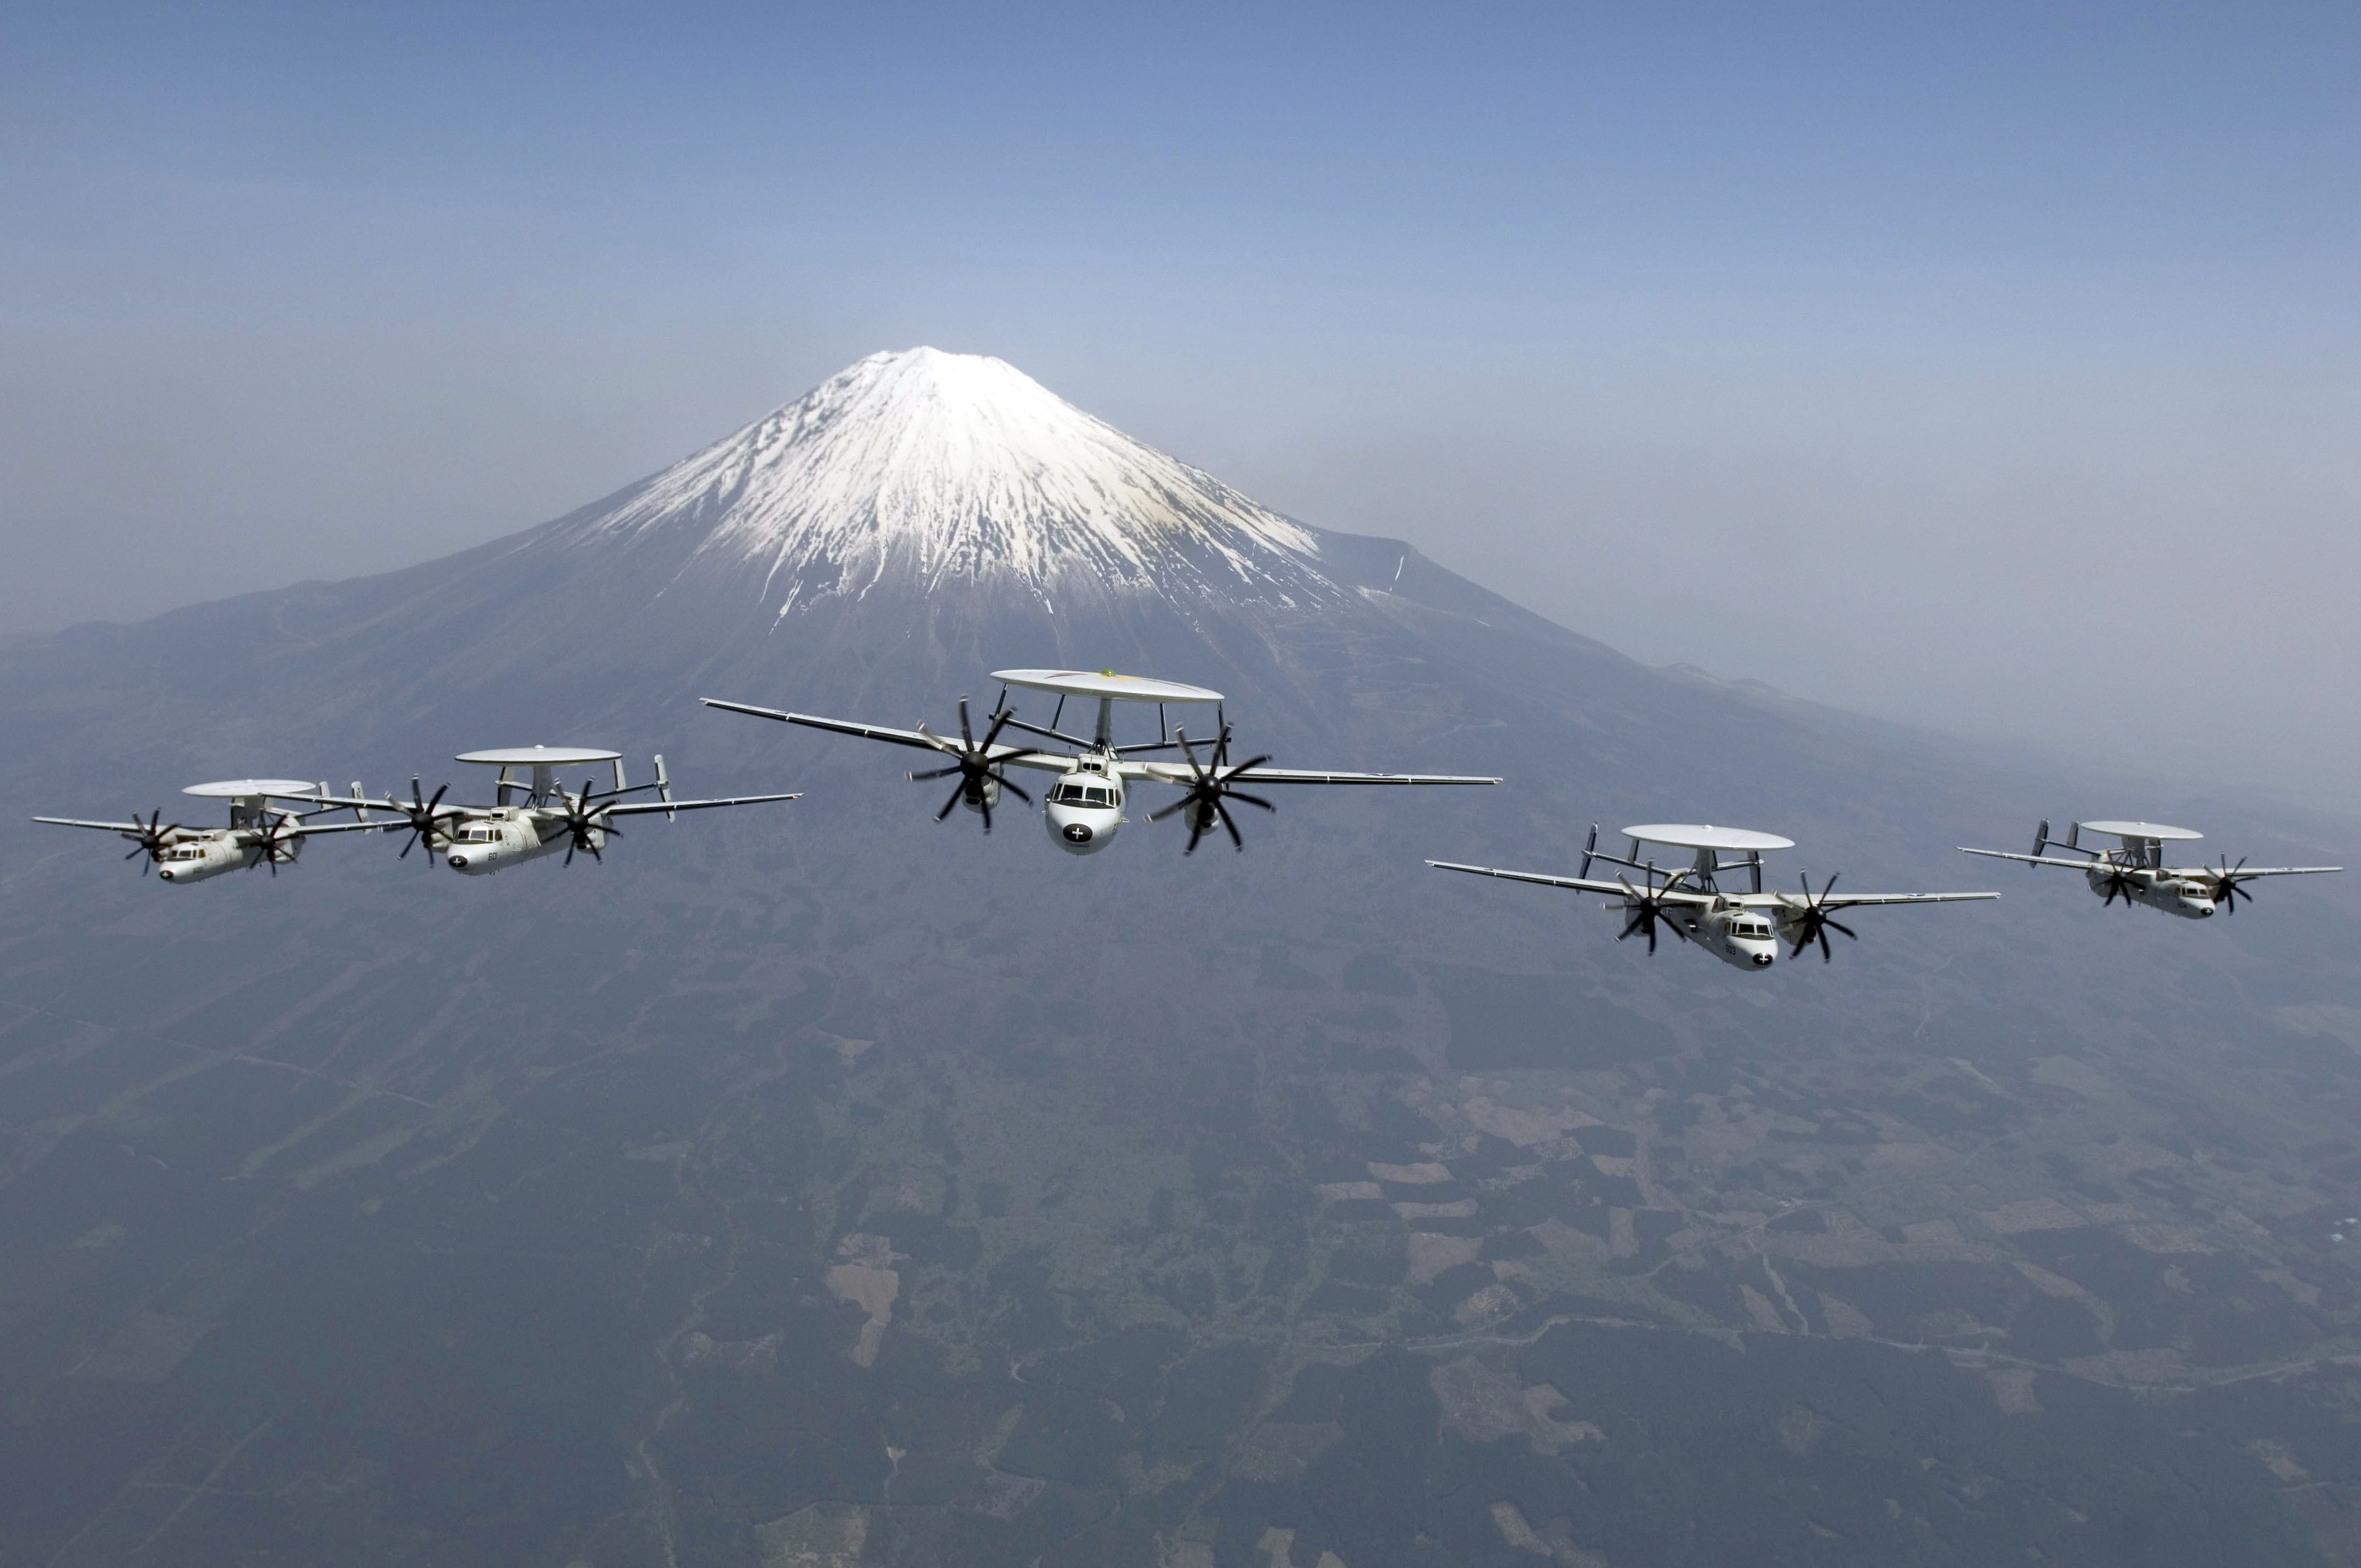E2: (698, 670, 1503, 857), (1425, 821, 2002, 971), (257, 745, 805, 877), (30, 779, 413, 885), (1955, 817, 2343, 920)
